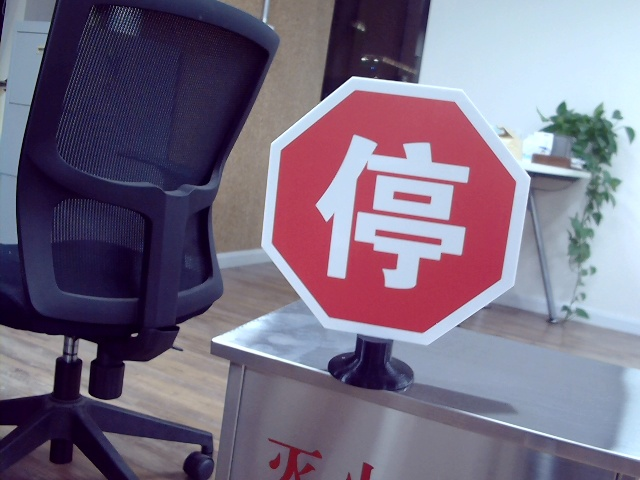stop: (313, 124, 472, 294)
